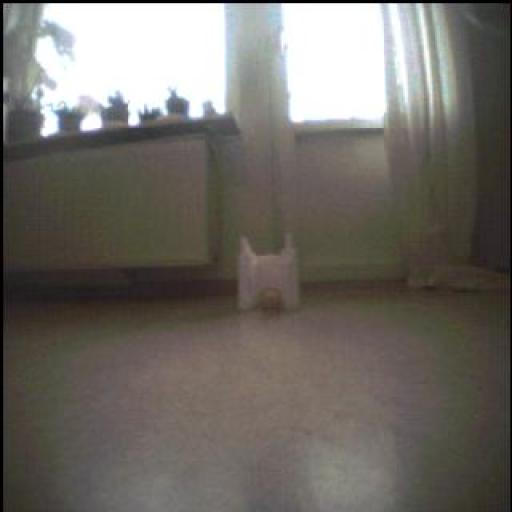Basket: (262, 288, 283, 316)
